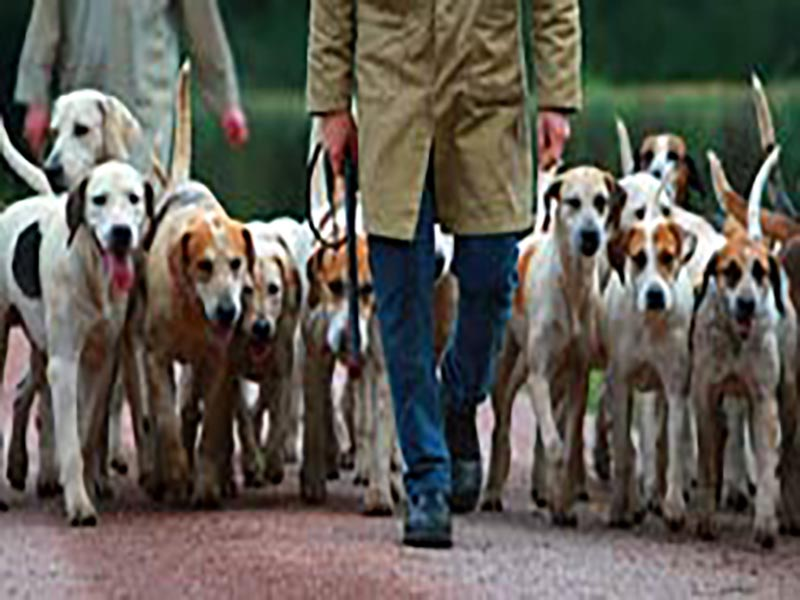cacciatore: (297, 1, 583, 552)
cane: (619, 225, 697, 544)
cane da caccia: (5, 157, 153, 538), (483, 154, 625, 512), (701, 146, 786, 519), (145, 211, 247, 519), (218, 232, 305, 500), (39, 87, 151, 197)
